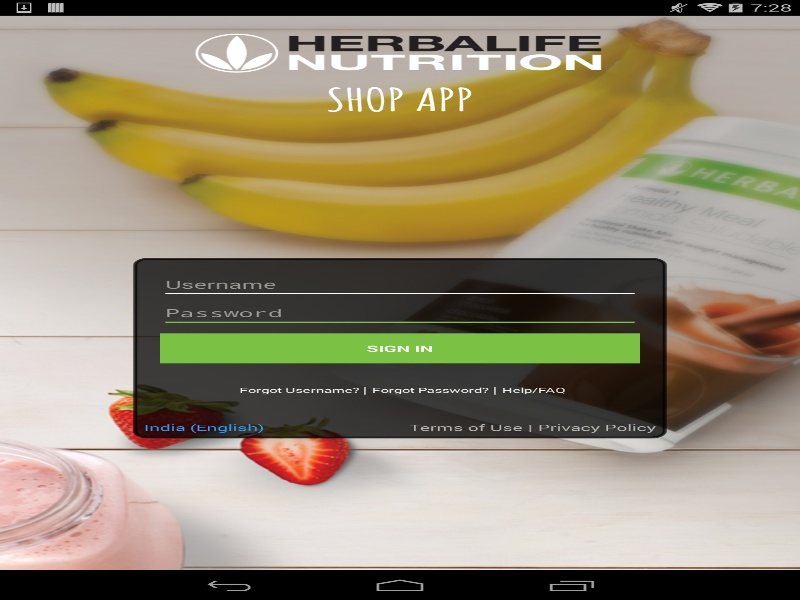Button: (160, 333, 640, 363)
Input: (160, 298, 640, 327), (160, 270, 640, 298)
